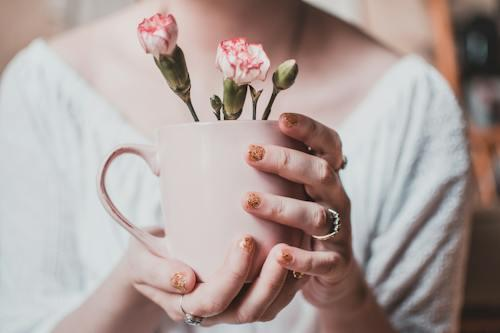Mug: (97, 118, 310, 299)
